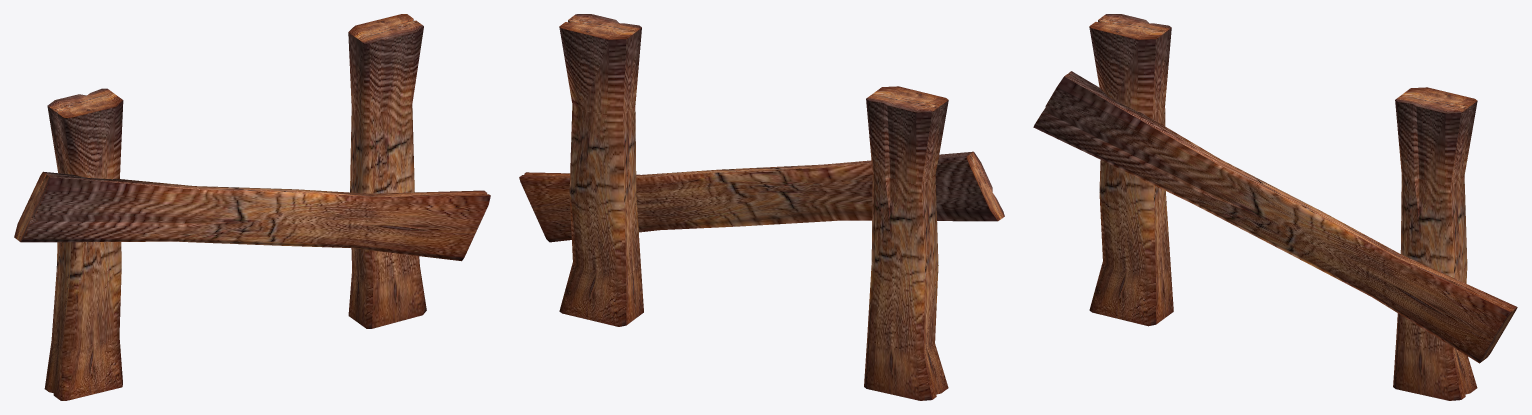
Rendered from CercaDos.fbx.
3 views of the same model, side by side, from view 1: azimuth 30°, elevation 25°; view 2: azimuth 150°, elevation 25°; view 3: azimuth 330°, elevation 25° (orthographic).
Parts seen in each view (by area): view 1: Cerca001; view 2: Cerca001; view 3: Cerca001.
Part boxes in pixels (box(x1,y1,x2,y2)): Cerca001: box(14, 14, 490, 400); Cerca001: box(519, 14, 1004, 400); Cerca001: box(1033, 14, 1517, 400).
Size of the model in its own units: 0.4577 by 0.2633 by 0.0505.
